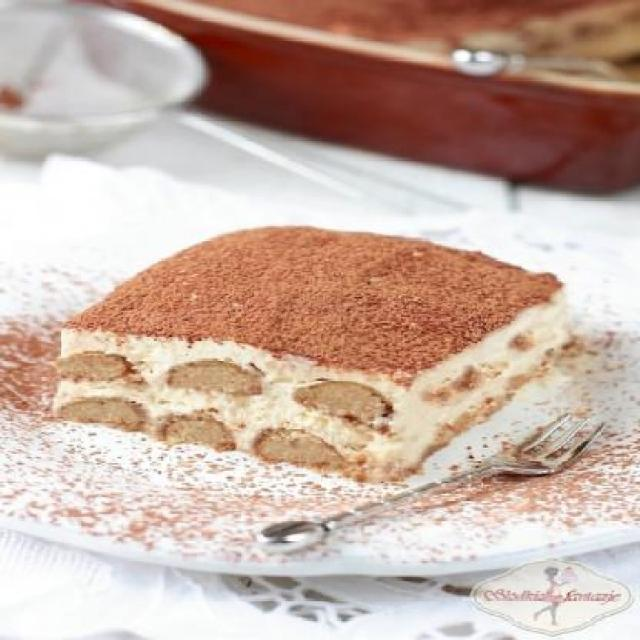Tiramisu: (69, 214, 562, 476)
